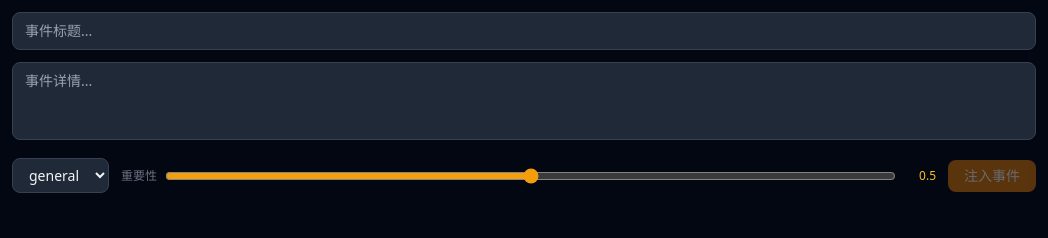
EventInjectForm › 提交失败时应显示错误消息
The image size is (1048, 238).
Type "测试" into the field with placeholder "事件标题..." at (524, 31), box x1=12 y1=12 x2=1036 y2=50
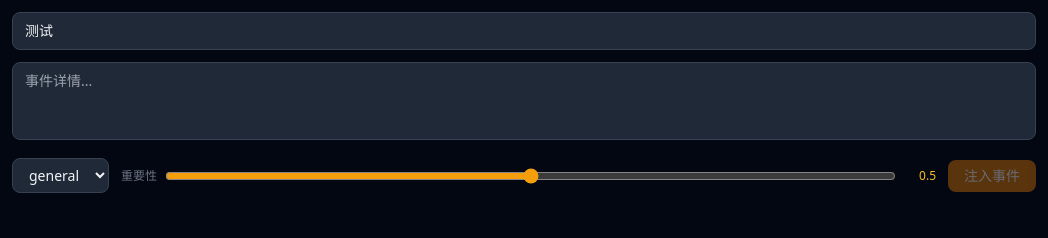
Type "内容" into the text box with placeholder "事件详情..." at (524, 101), box x1=12 y1=62 x2=1036 y2=140
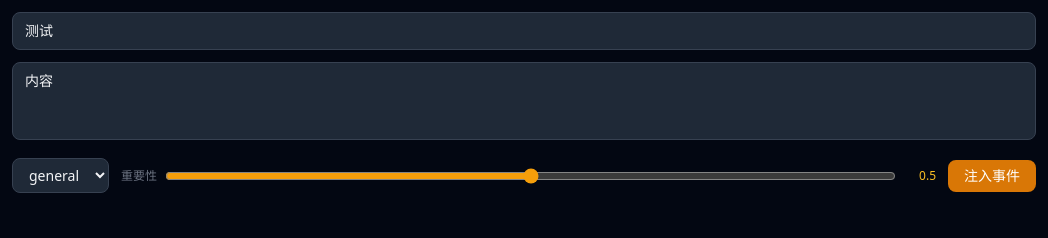
Click the button "注入事件" at (992, 176), box x1=948 y1=160 x2=1036 y2=192
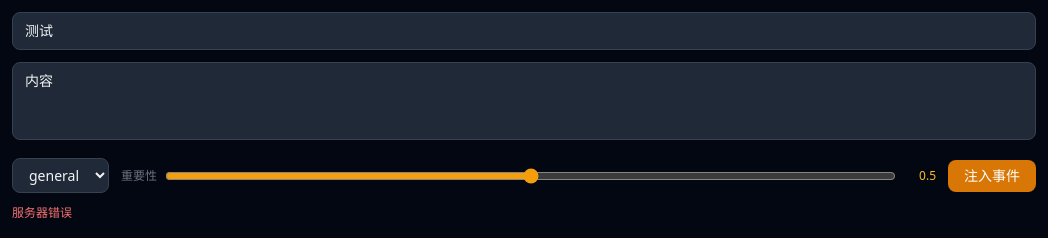
Expected: the text "服务器错误" is shown, x1=12 y1=204 x2=72 y2=221
